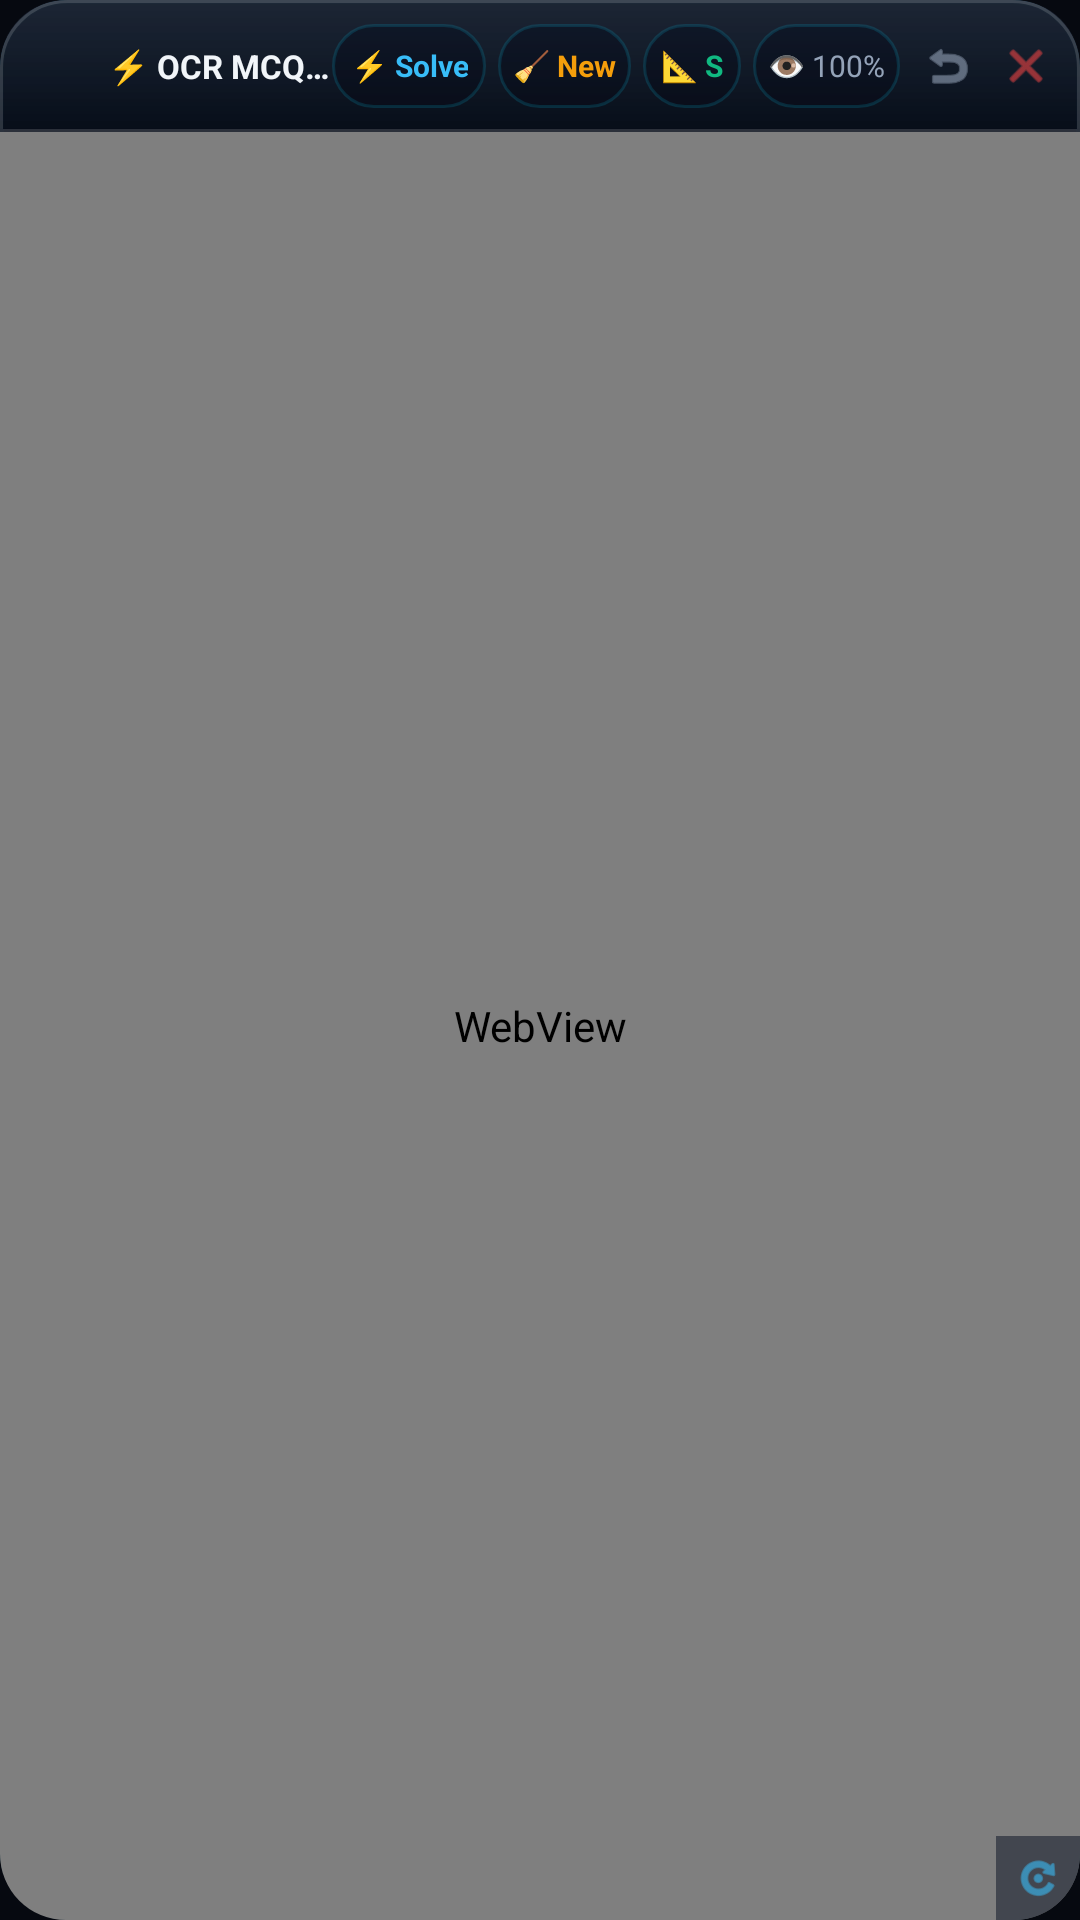

Icon bounding boxes for this 1080w x 1920h phone screenshot, format {"left": x1, "top": y1, "right": x2, "bottom": y2}:
close clear cancel: {"left": 1009, "top": 49, "right": 1043, "bottom": 83}
revert: {"left": 929, "top": 49, "right": 968, "bottom": 84}
rotate: {"left": 1020, "top": 1860, "right": 1055, "bottom": 1896}
